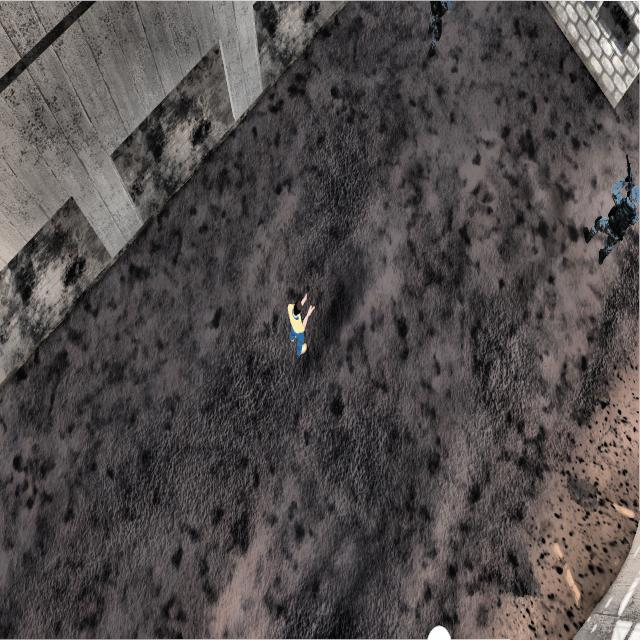bad: (568, 147, 640, 281), (418, 1, 456, 62)
good: (280, 282, 316, 368)
